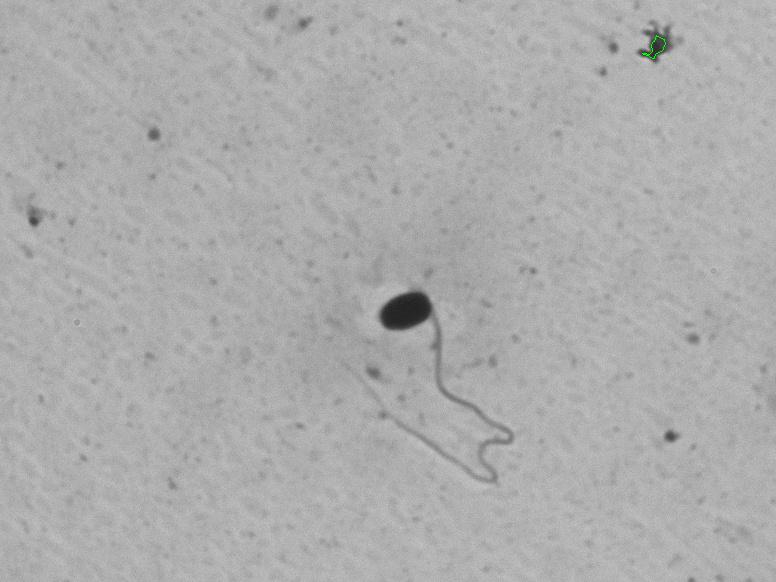Abnormal: (312, 234, 587, 515)
